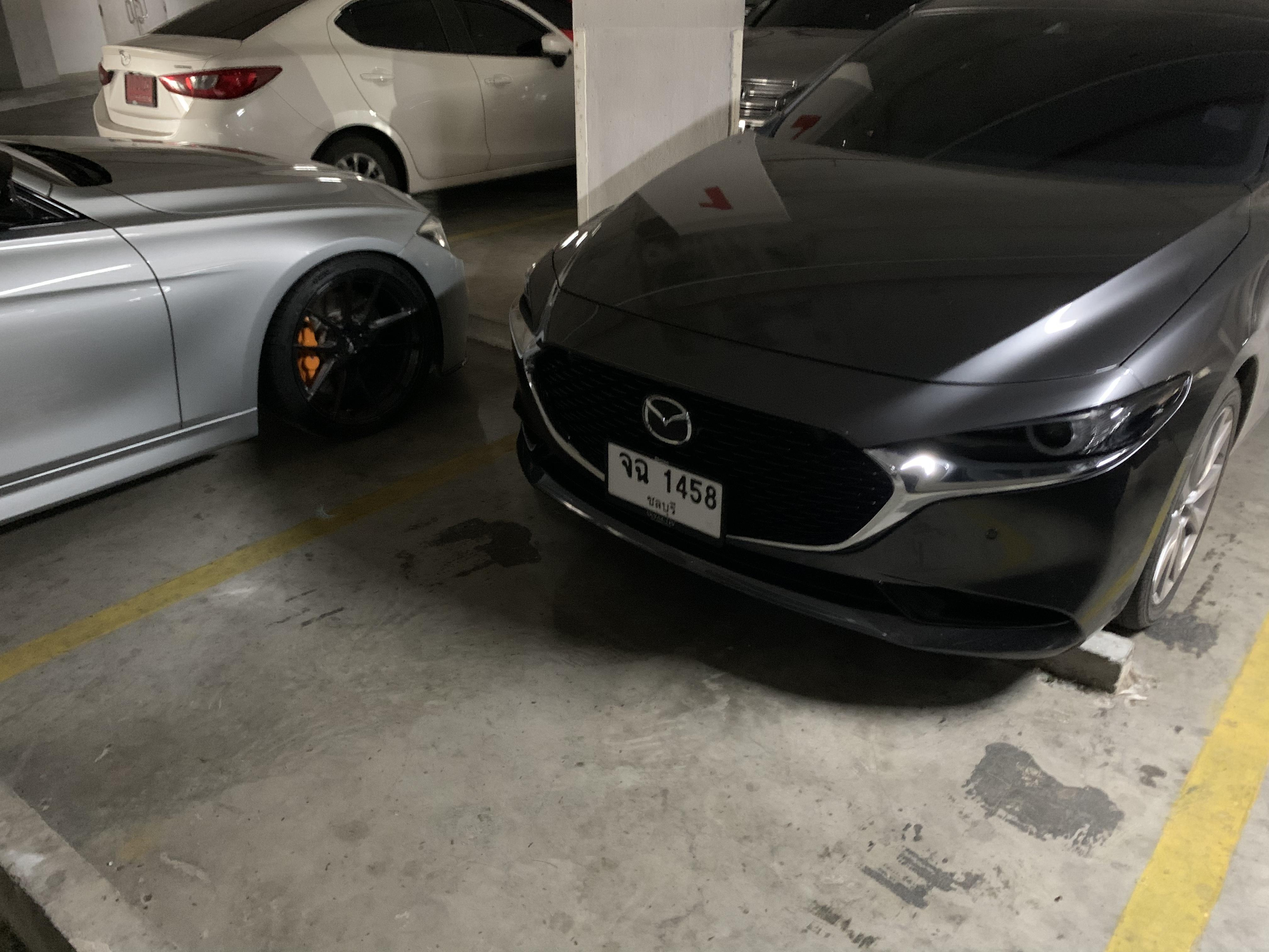license-plate: (600, 431, 732, 545)
